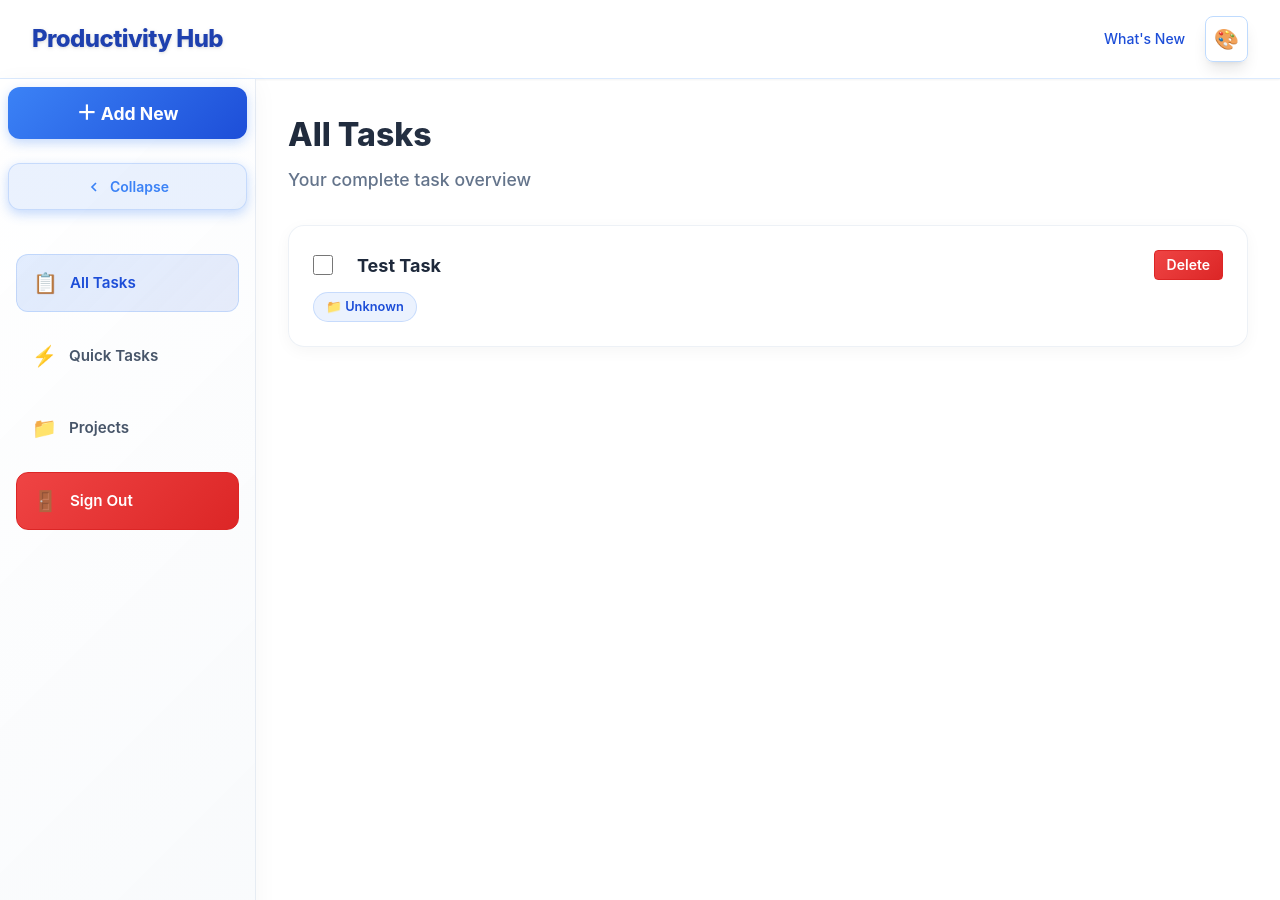
CSRF Token Management › handles form submission properly
Note: Click 'Add New' button
Click the button "＋ Add New" at (128, 113), box [8,87,247,139]
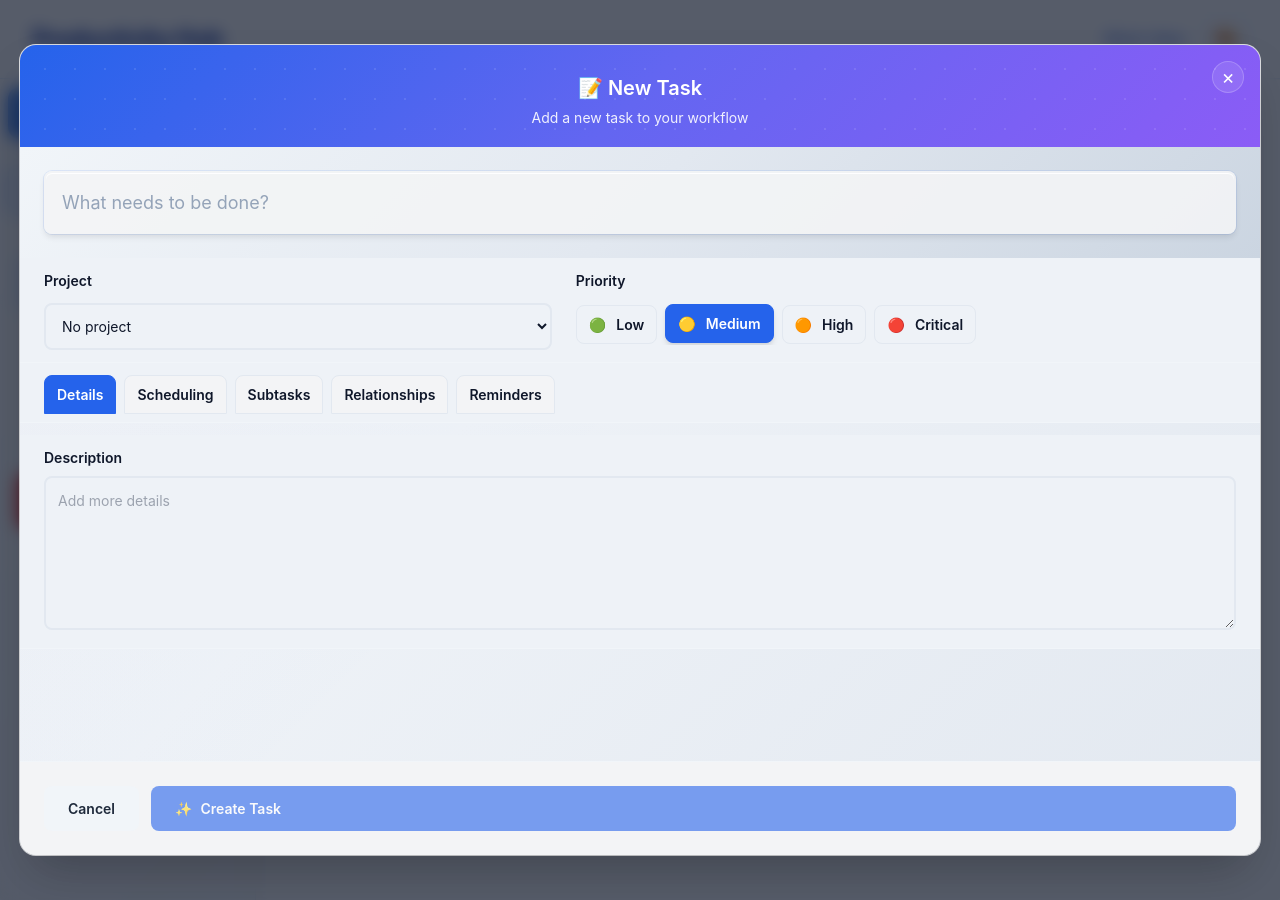
Check: the button with class "modern-modal-backdrop" is shown
Check: the button "✨ Create Task" is shown, box [151,786,1236,831]
